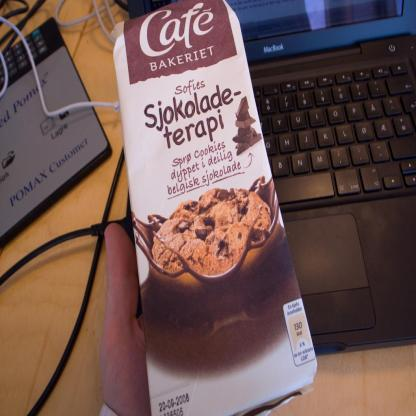board: (128, 0, 416, 357)
